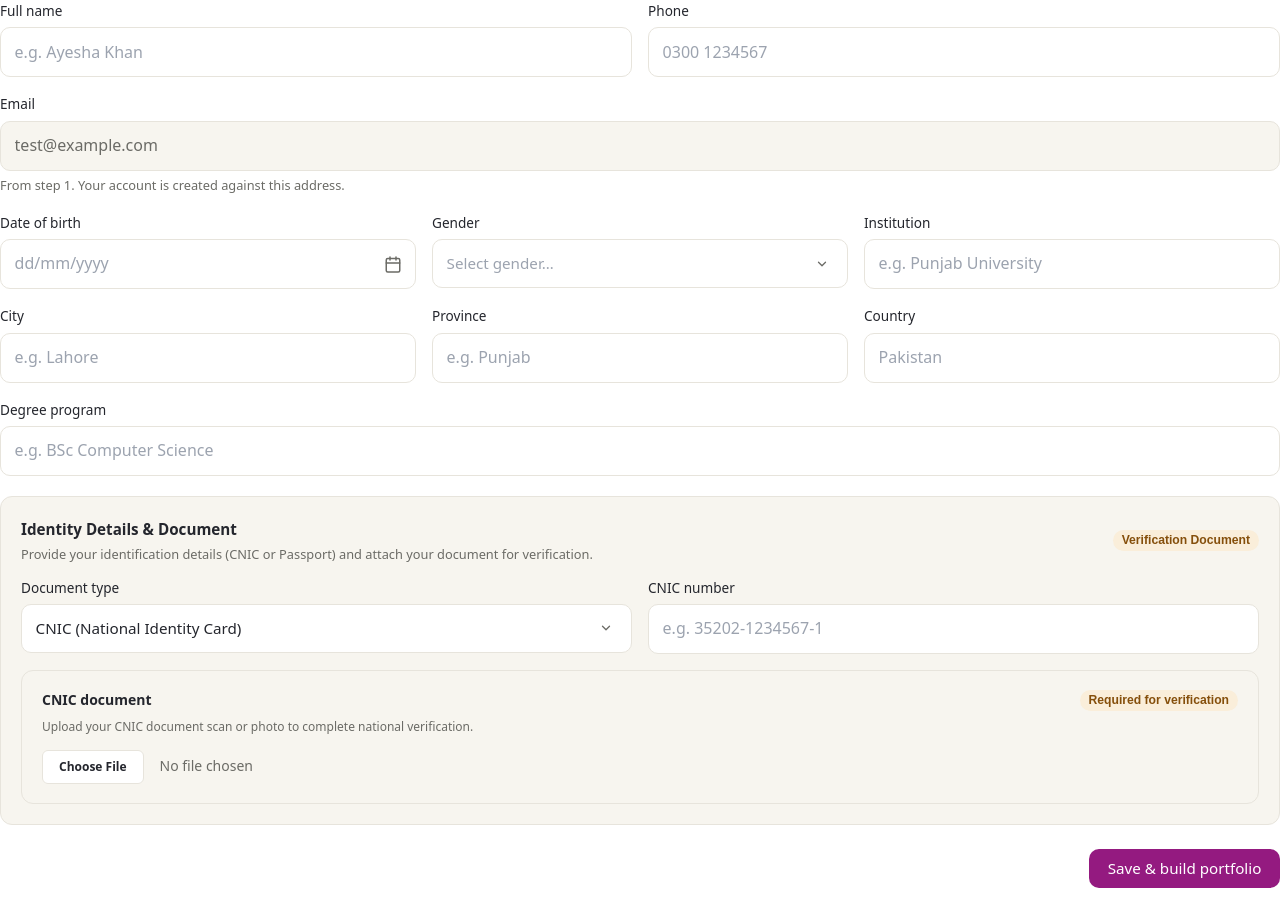
it: RegisterForm › validates and highlights CNIC number when showCnicUpload is true and submitted empty
The width and height of the screenshot is (1280, 900).
Click the button "Save & build portfolio".
click(1185, 868)  # box [1089,849,1279,888]
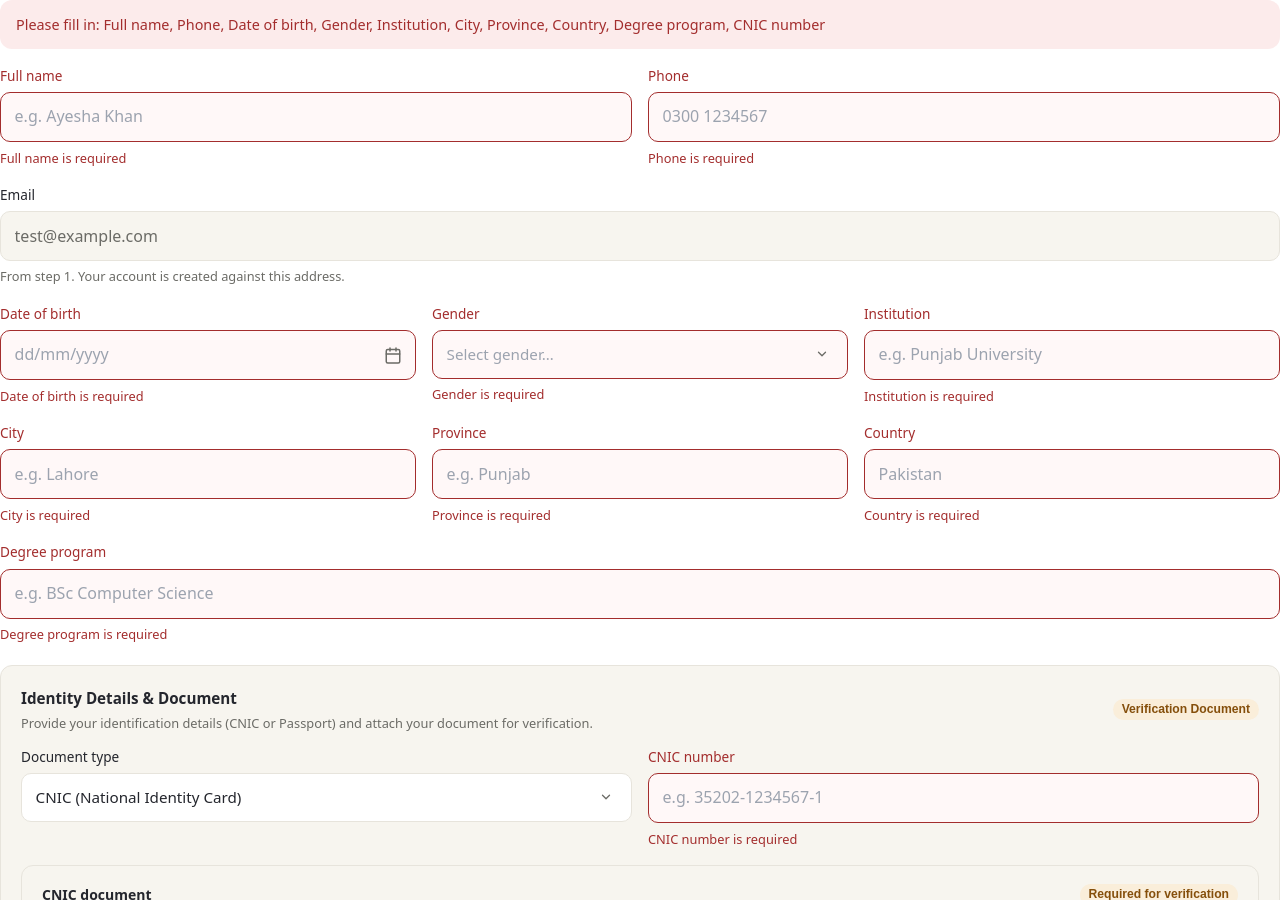
Check: the text "CNIC number is required" is shown, box [648,830,797,848]
